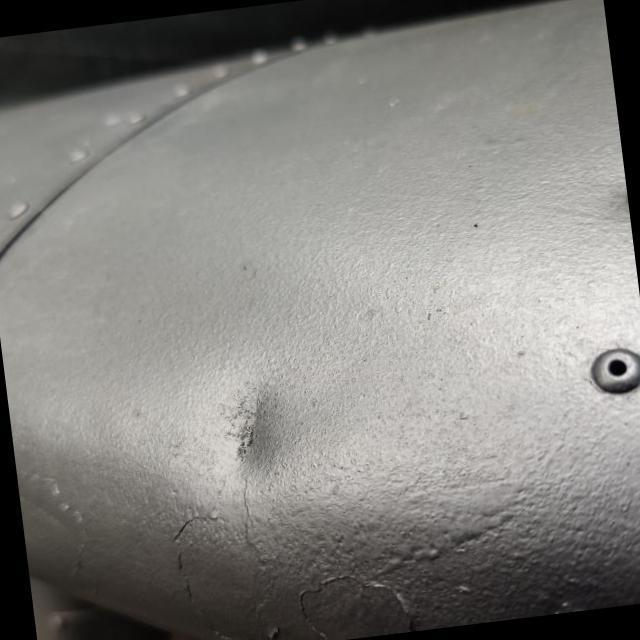Dent: (155, 338, 358, 528)
